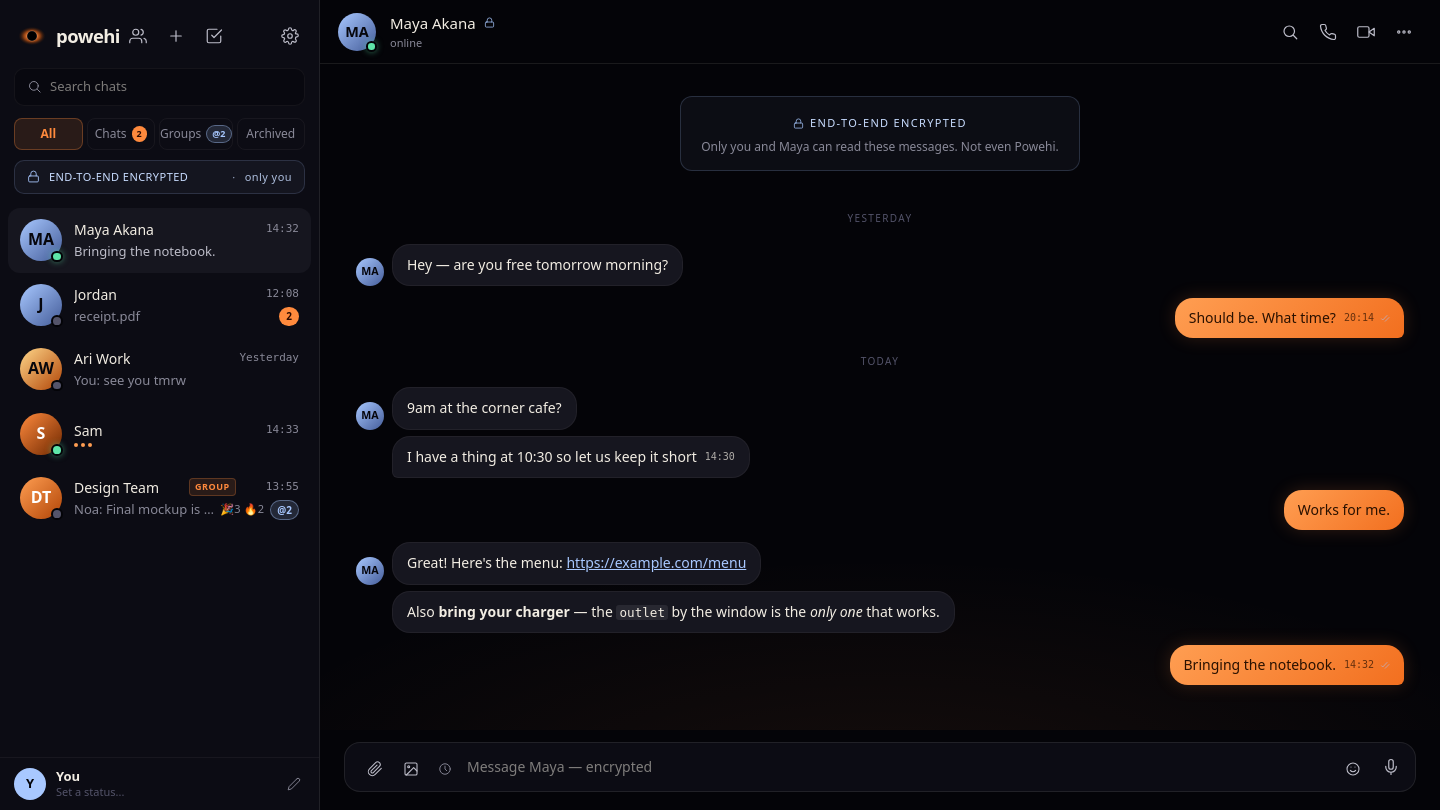
Test: ChatLayout — group message reactions total summary + sidebar preview › group message with >= 2 total reactions shows reaction-total-summary
Click the button "Design Team" at (160, 498), box x1=8 y1=466 x2=311 y2=530
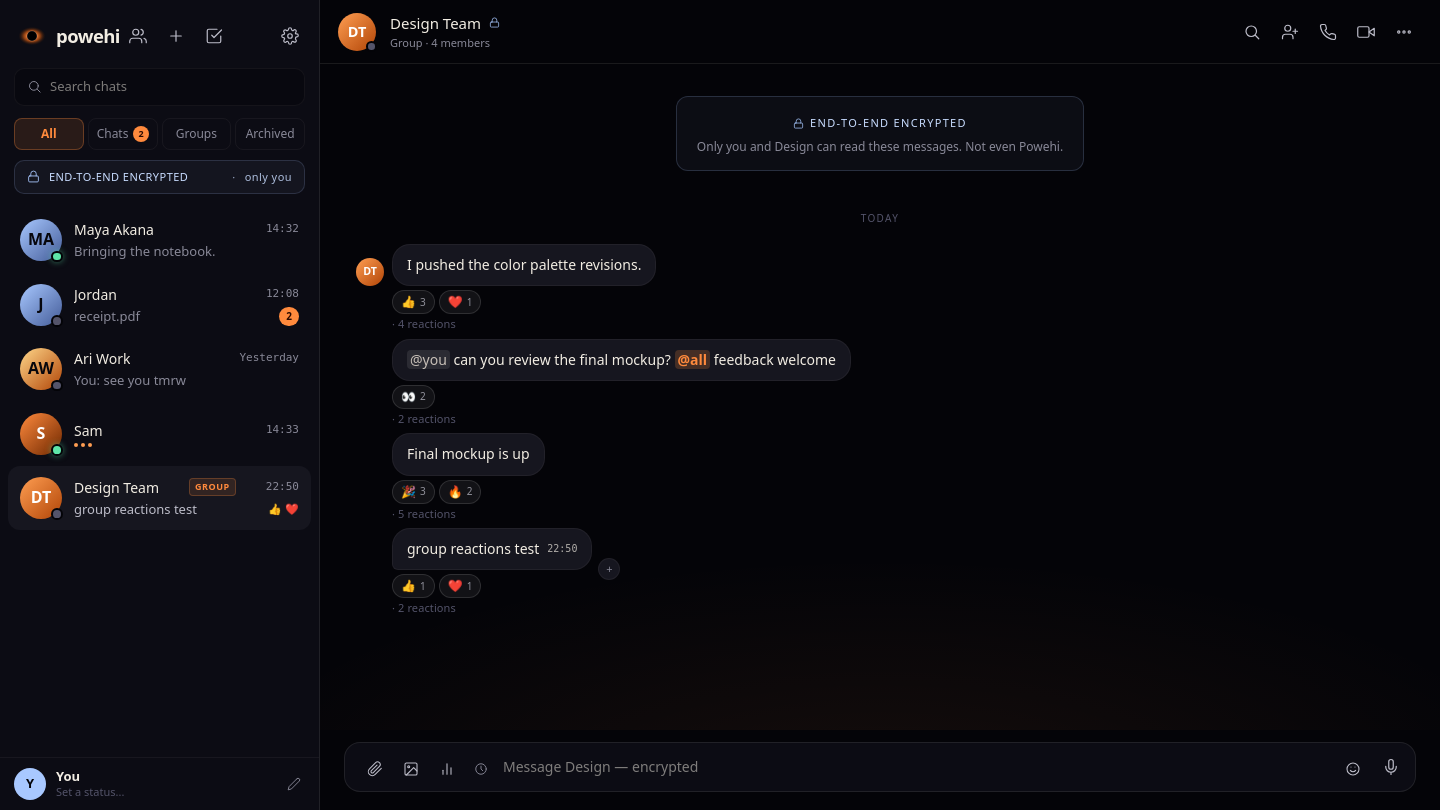
Expected: the text "· 4 reactions" is shown, x1=392 y1=316 x2=456 y2=331
Expected: the text with test id "reaction-total-summary" below "@you" is shown, x1=392 y1=411 x2=456 y2=426
